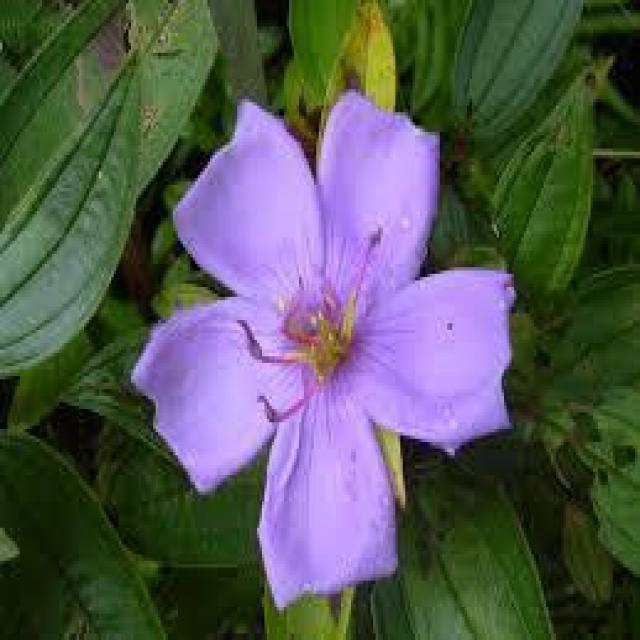organic waste: (136, 87, 524, 602)
